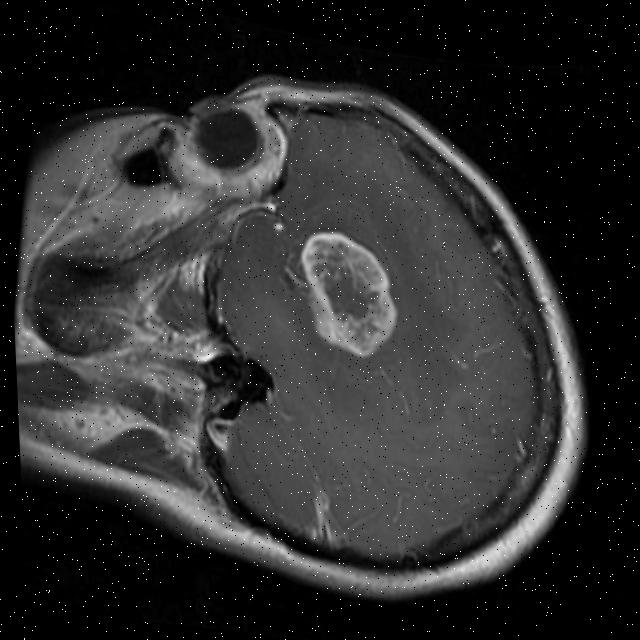Glioma: (284, 223, 410, 364)
